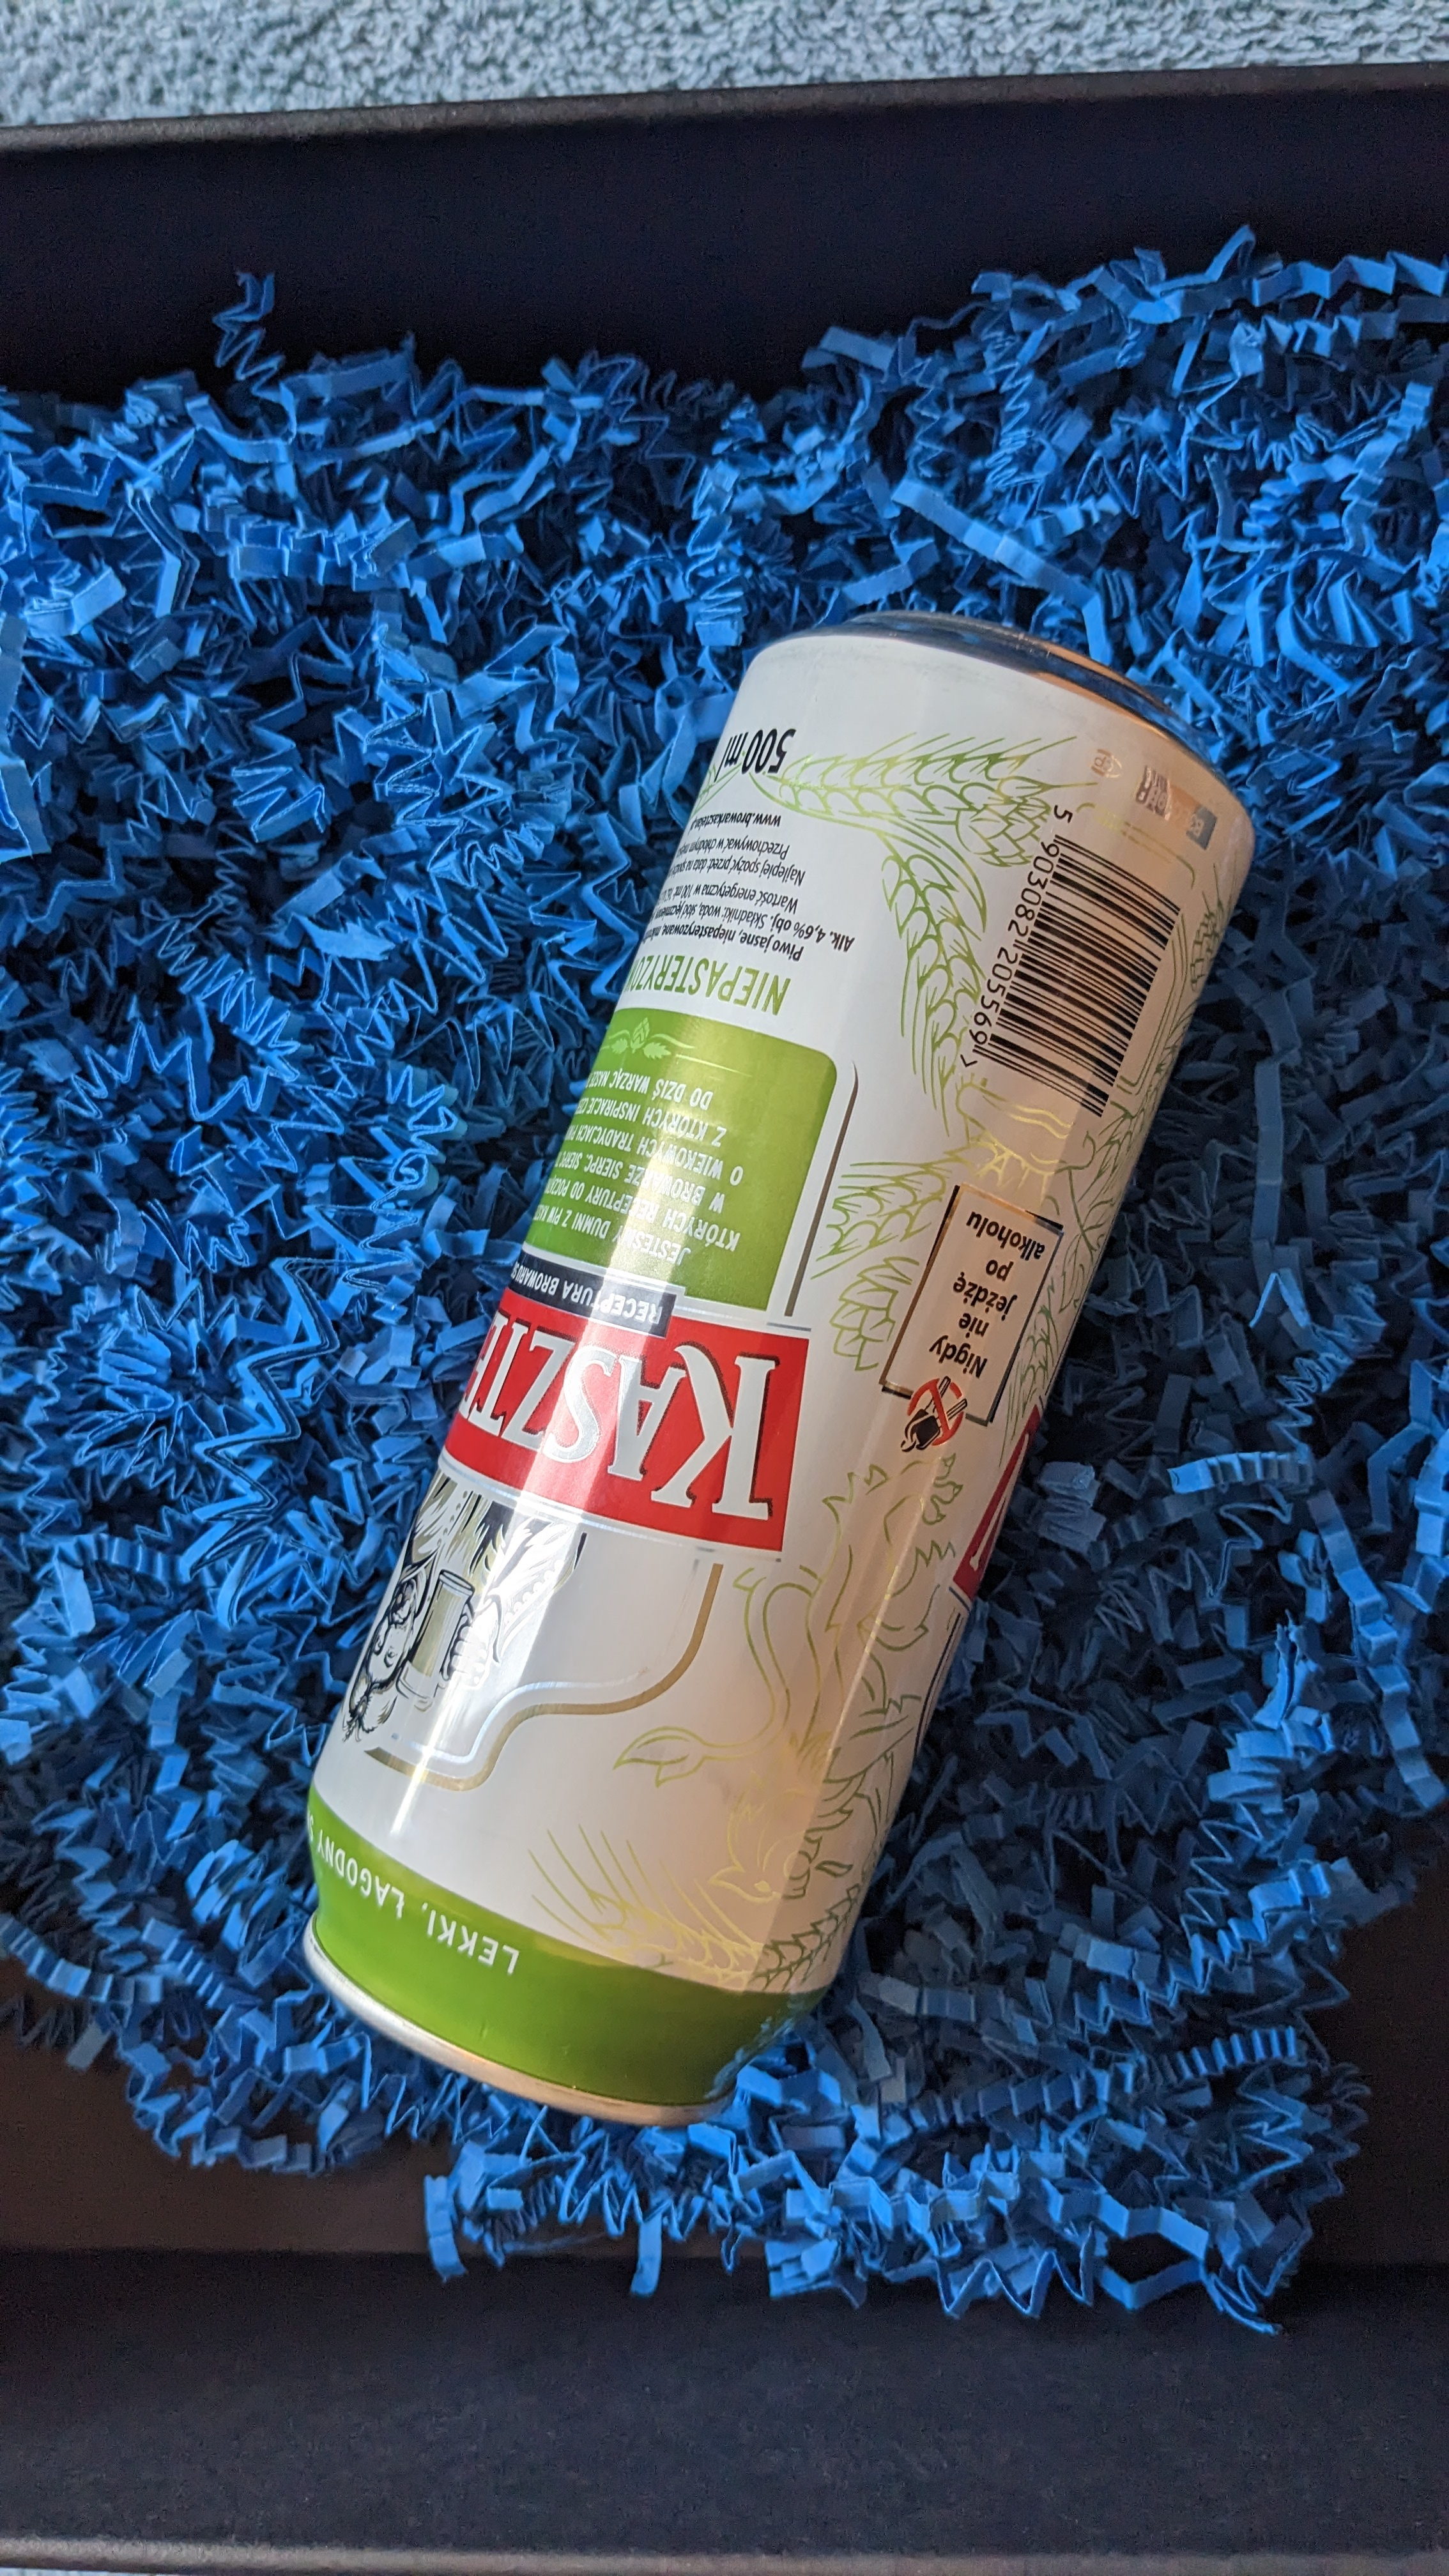kasztelan: (288, 563, 1244, 2127)
